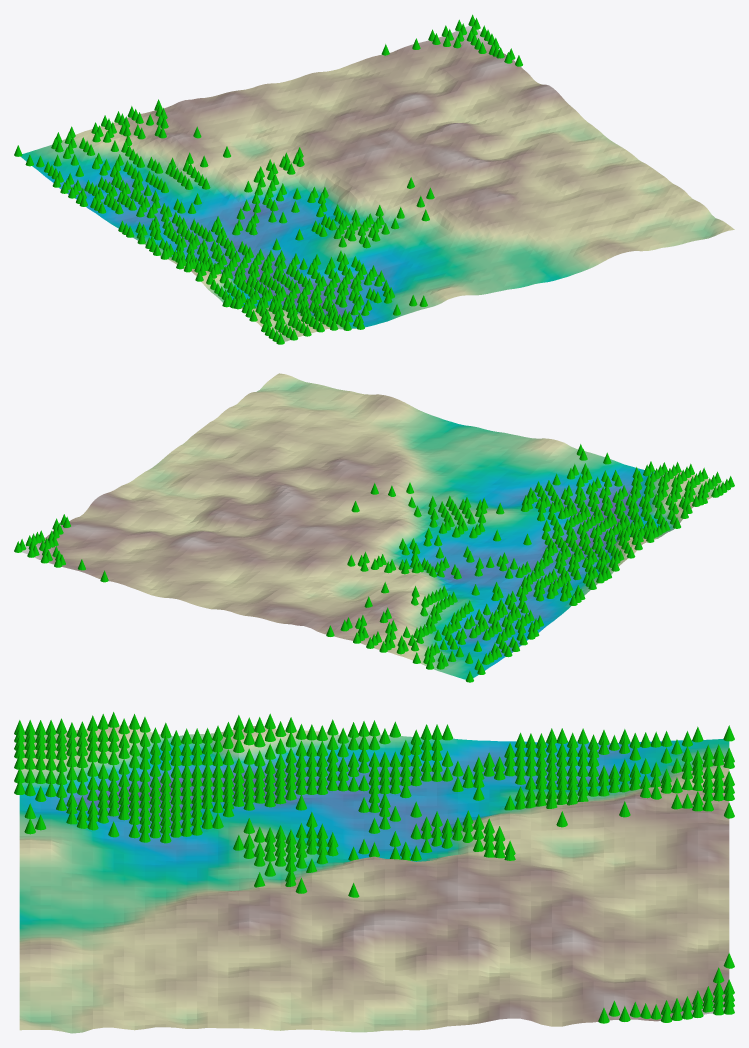
Rendered from 003778_with_tree.glb.
3 views of the same model, one above another, from view 1: azimuth 30°, elevation 25°; view 2: azimuth 150°, elevation 25°; view 3: azimuth 270°, elevation 25° (orthographic). The views are drawn at different scales.
Parts seen in each view (by area): view 1: terrain, trees; view 2: terrain, trees; view 3: terrain, trees.
Boxes of the visible parts, x1,y1,x2,y2 form: terrain: [20, 25, 734, 341]; trees: [14, 14, 522, 344]; terrain: [22, 373, 721, 679]; trees: [14, 444, 734, 682]; terrain: [19, 725, 729, 1033]; trees: [14, 712, 734, 1023].
Size of the model in its own units: 0.0186 by 0.00139 by 0.0186.
